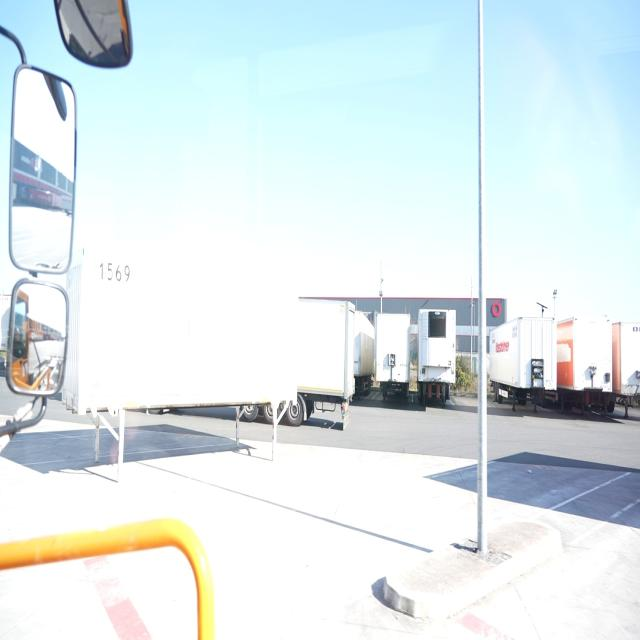Code: (95, 256, 133, 286)
